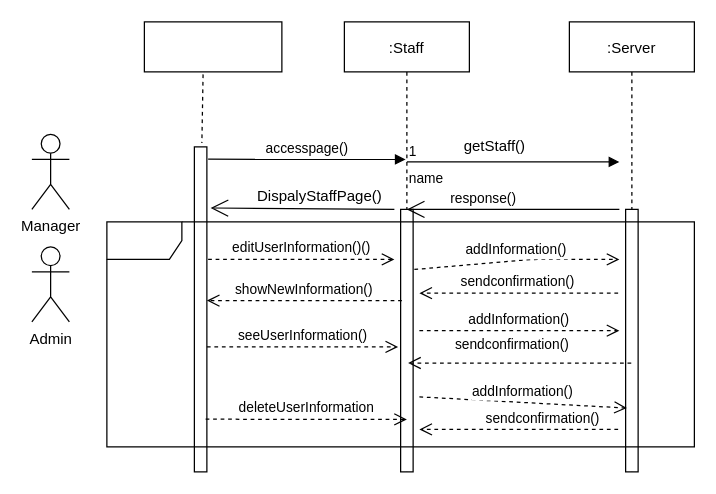
This 716x494 diagram has some shape labels left out. The shapes that lost their labels are listed below. From the top down, each one's centre as x and y in pixels, then its label:
the point at 212,46: :User Page
the point at 400,334: Alt
